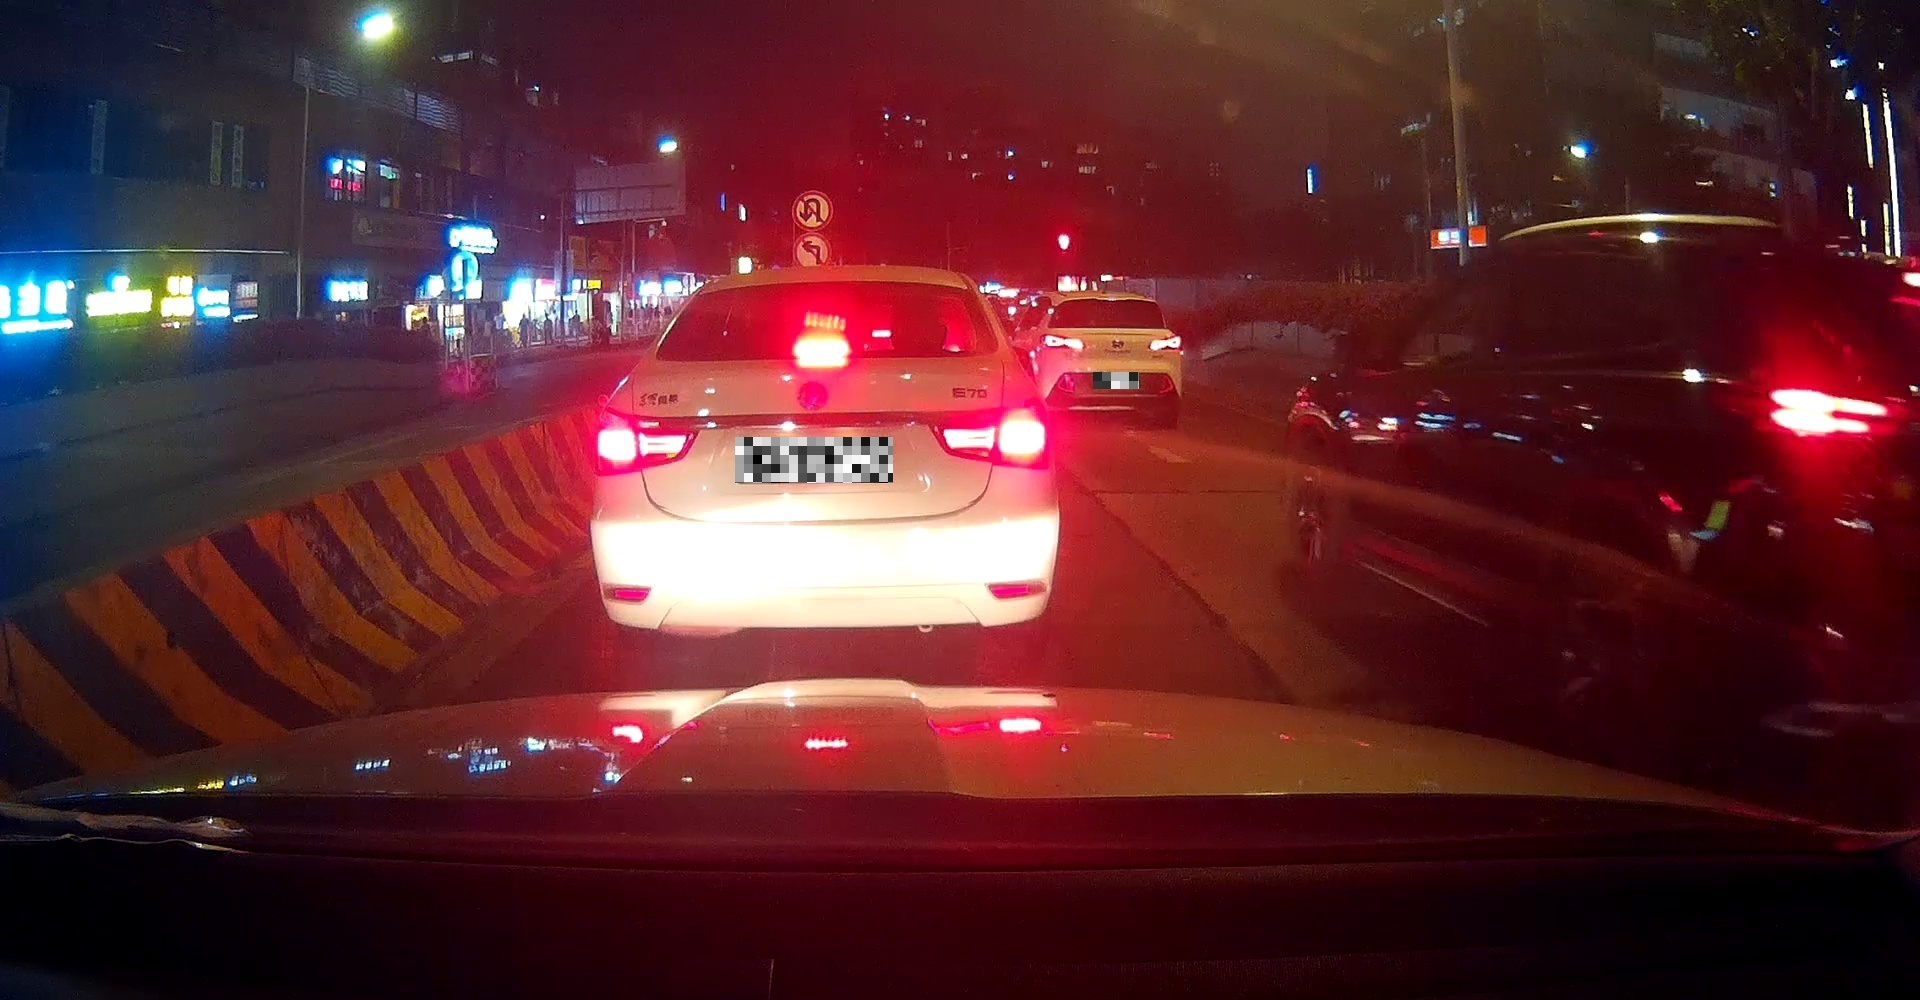L_light: (592, 405, 703, 478)
R_light: (926, 404, 1057, 468)
T_light: (791, 340, 850, 362)
night-brake: (588, 265, 1062, 656)
plate_1: (735, 437, 893, 484)
plate_2: (1093, 372, 1139, 390)
